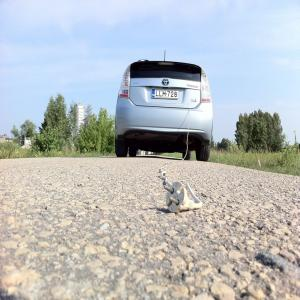Vehicle-registration-plate: (151, 89, 180, 100)
